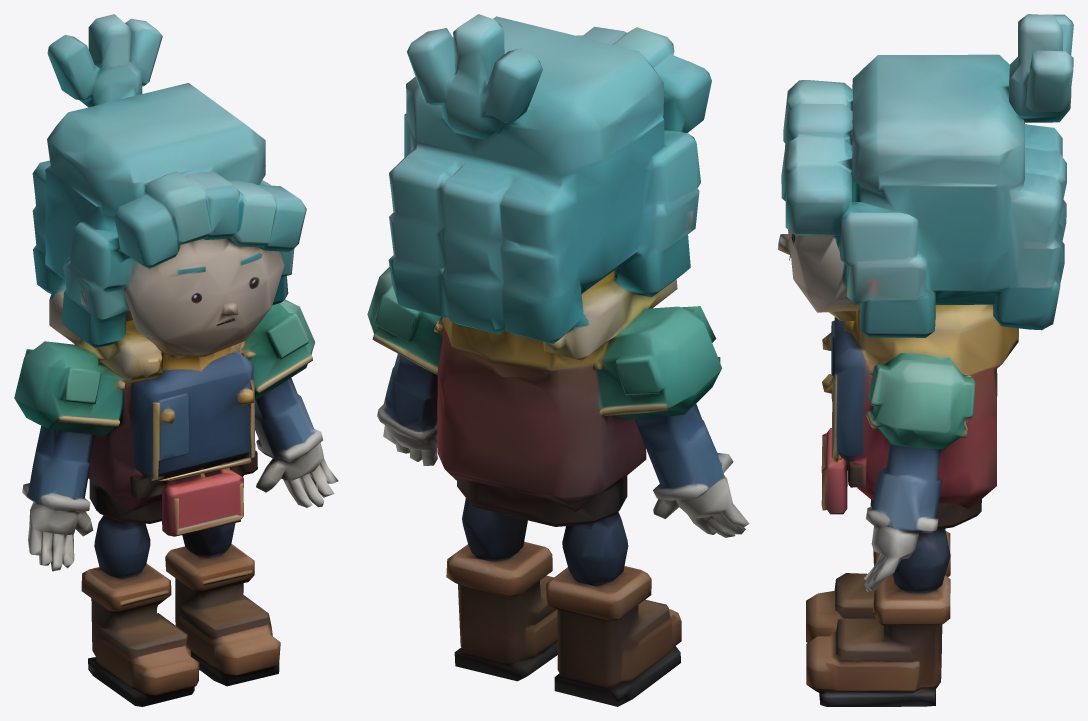
The model's file is hero-tripo.glb.
The picture shows the model from 3 angles, left to right: view 1: azimuth 30°, elevation 25°; view 2: azimuth 150°, elevation 25°; view 3: azimuth 270°, elevation 25°; orthographic projection. The views are drawn at different scales.
Parts seen in each view (by area): view 1: Tripo hero appearance variant; view 2: Tripo hero appearance variant; view 3: Tripo hero appearance variant.
Boxes of the visible parts, bbox=[...] form: Tripo hero appearance variant: bbox=[14, 14, 338, 706]; Tripo hero appearance variant: bbox=[367, 14, 749, 706]; Tripo hero appearance variant: bbox=[778, 14, 1073, 706].
Size of the model in its own units: 1.45 by 2.71 by 1.11.
Materials: 1 (1 with a texture image).
